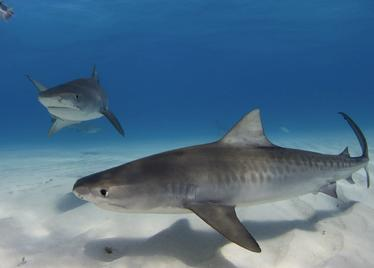Shark -Selachimorpha-: (72, 108, 367, 254), (24, 63, 124, 138)
